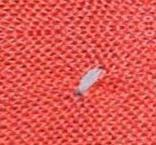hole: (76, 64, 109, 99)
